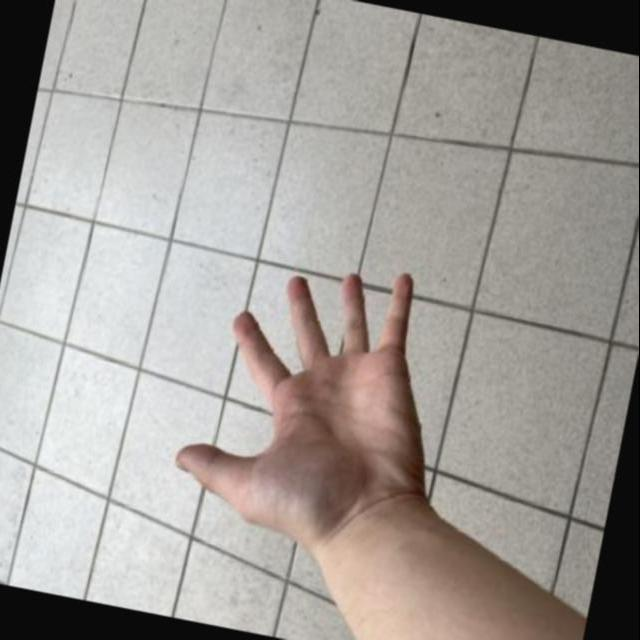hand: (143, 200, 490, 590)
